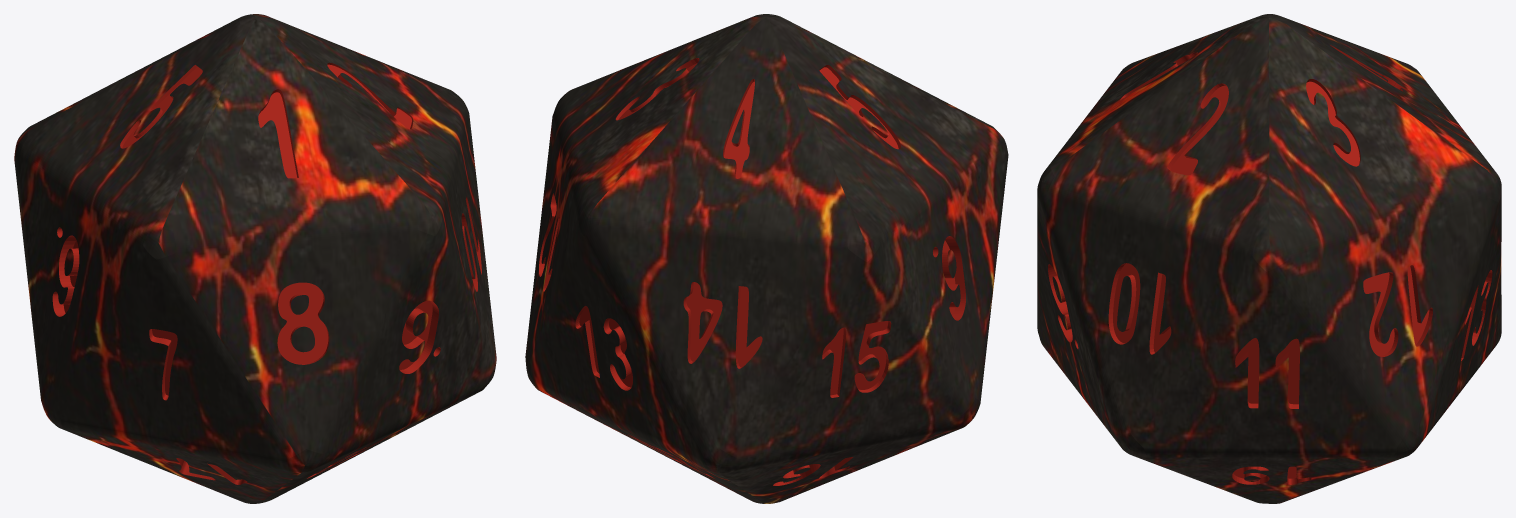
Rendered from dado20Caras.glb.
3 renders of one model, left to right at view 1: azimuth 30°, elevation 25°; view 2: azimuth 150°, elevation 25°; view 3: azimuth 270°, elevation 25°, orthographic.
Visible parts, largest first — view 1: Dado; view 2: Dado; view 3: Dado.
Part boxes in pixels (box(x1,y1,x2,y2)): Dado: box(14, 14, 496, 503); Dado: box(525, 14, 1008, 503); Dado: box(1037, 14, 1501, 503).
Size of the model in its own units: 141 by 155 by 135.
Materials: 2 (1 with a texture image).
